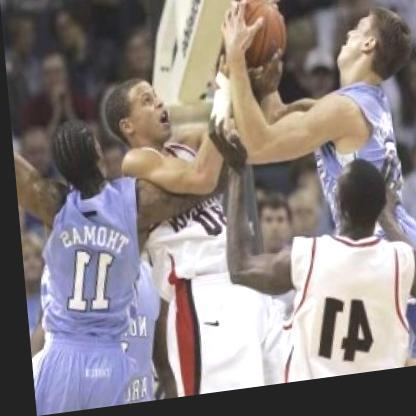basketball: (217, 0, 289, 77)
